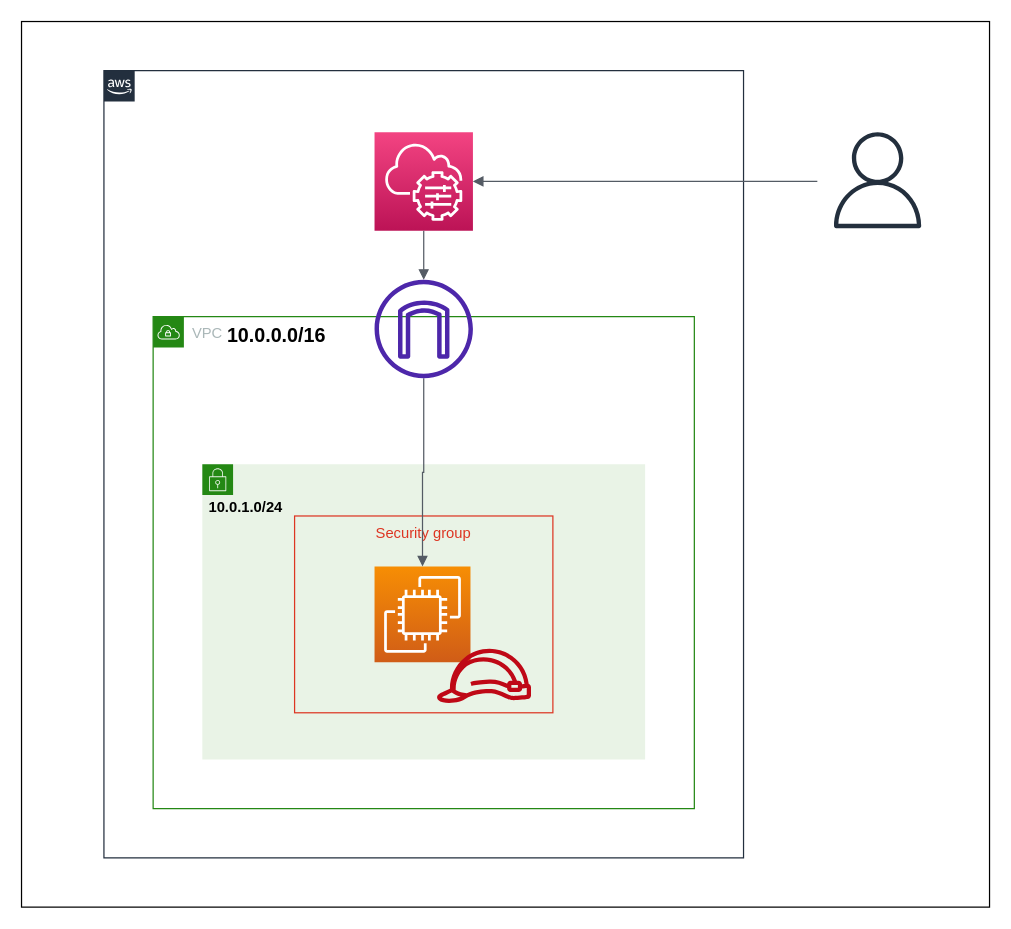
Image size: 1011x929. Some labels were removed from this diagram. The shapes that lost their labels are listed below. From the top down, each one's box as (x1, y1, x2, y2) in pixels, then its label:
(103, 69, 744, 858): AWS Cloud
(201, 463, 645, 760): Public subnet
